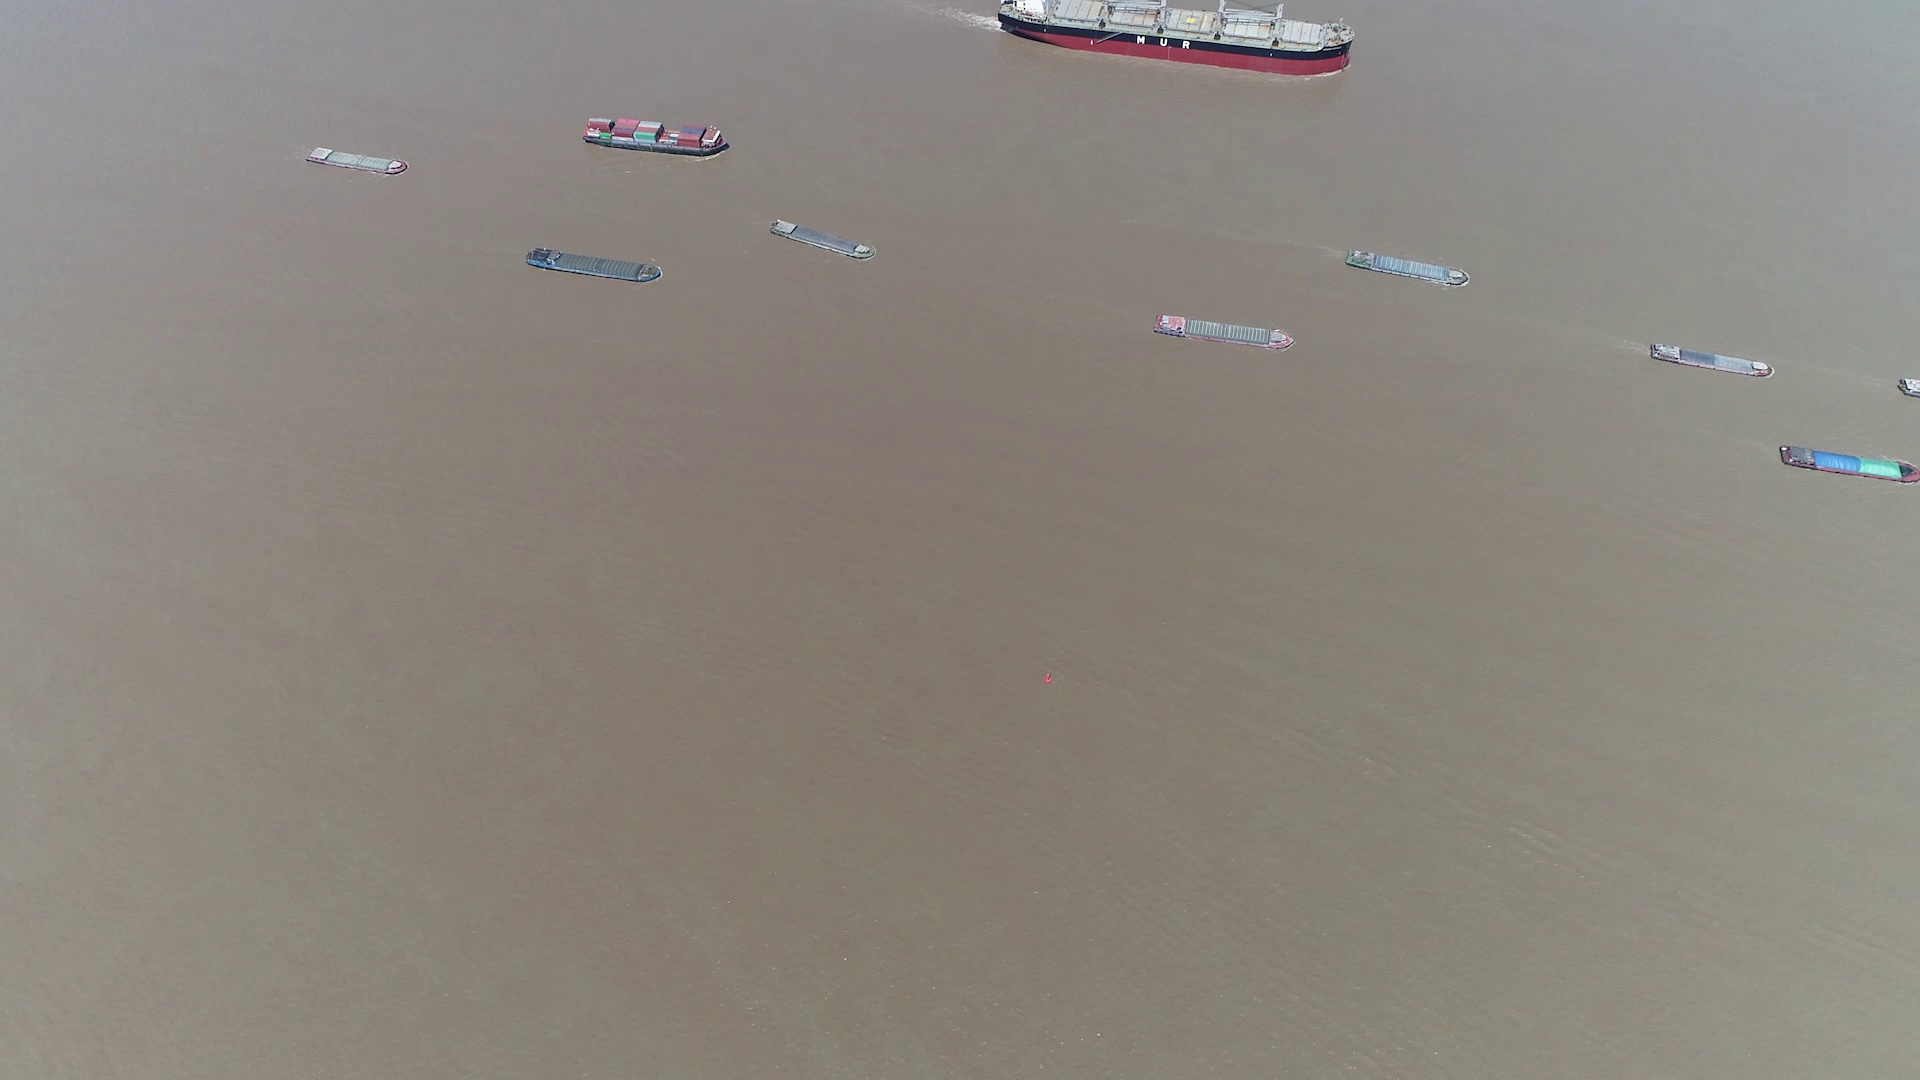ship: (1000, 0, 1350, 74), (582, 116, 729, 156), (1780, 444, 1920, 483), (1344, 247, 1470, 287), (1154, 313, 1294, 349), (526, 247, 661, 284), (770, 218, 876, 261), (1648, 342, 1774, 377), (305, 144, 407, 175), (1898, 375, 1920, 398)
